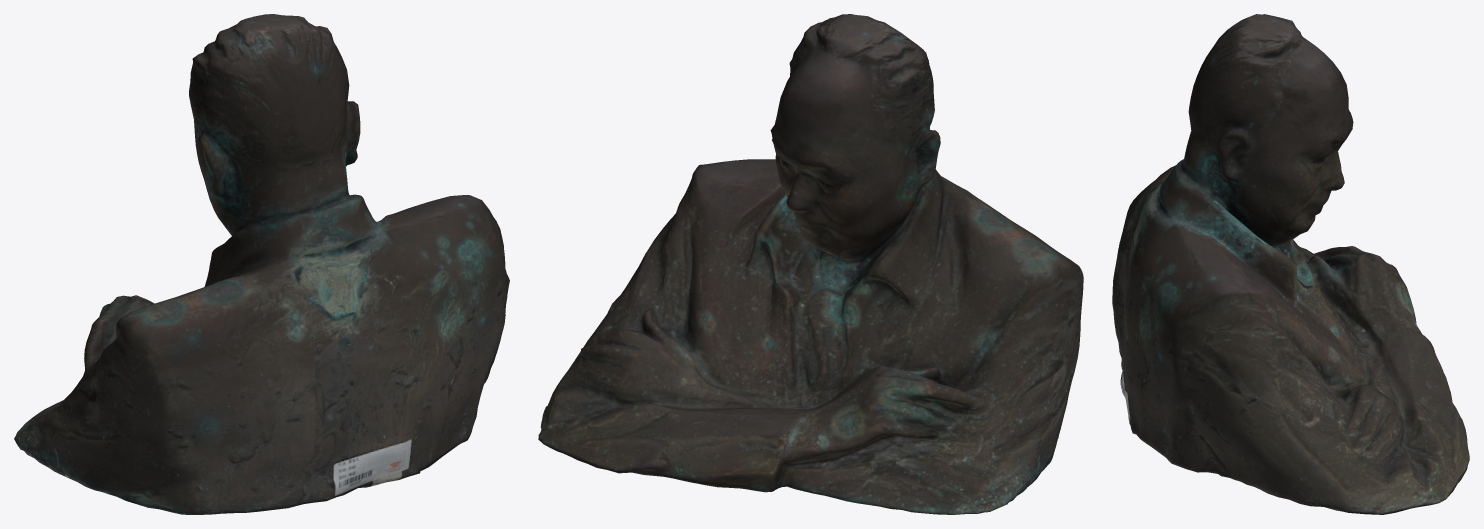
3 renders of one model, left to right at view 1: azimuth 30°, elevation 25°; view 2: azimuth 150°, elevation 25°; view 3: azimuth 270°, elevation 25°, orthographic. The views are drawn at different scales.
Parts seen in each view (by area): view 1: 6_low; view 2: 6_low; view 3: 6_low.
Boxes of the visible parts, box(x1,y1,x2,y2) form: 6_low: box(14, 14, 509, 514); 6_low: box(538, 14, 1083, 514); 6_low: box(1112, 14, 1469, 514).
Size of the model in its own units: 2.17 by 1.86 by 1.6.
Materials: 1 (1 with a texture image).
